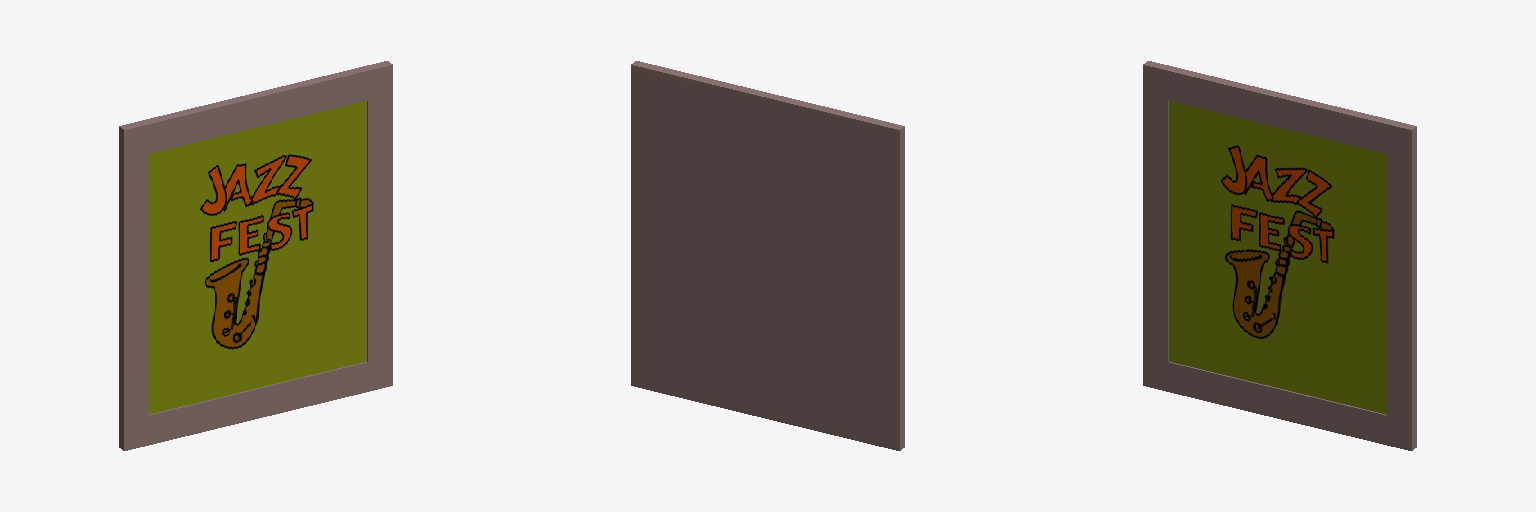
3 renders of one model, left to right at view 1: azimuth 30°, elevation 25°; view 2: azimuth 150°, elevation 25°; view 3: azimuth 330°, elevation 25°, orthographic.
Visible parts, largest first — view 1: Cube.015_Cube.034; view 2: Cube.015_Cube.034; view 3: Cube.015_Cube.034.
Part boxes in pixels (x1,y1,x2,y2): Cube.015_Cube.034: (119, 61, 392, 450); Cube.015_Cube.034: (631, 61, 904, 450); Cube.015_Cube.034: (1143, 61, 1416, 450).
Size of the model in its own units: 7 by 8 by 0.25.
1 materials, 1 textured.